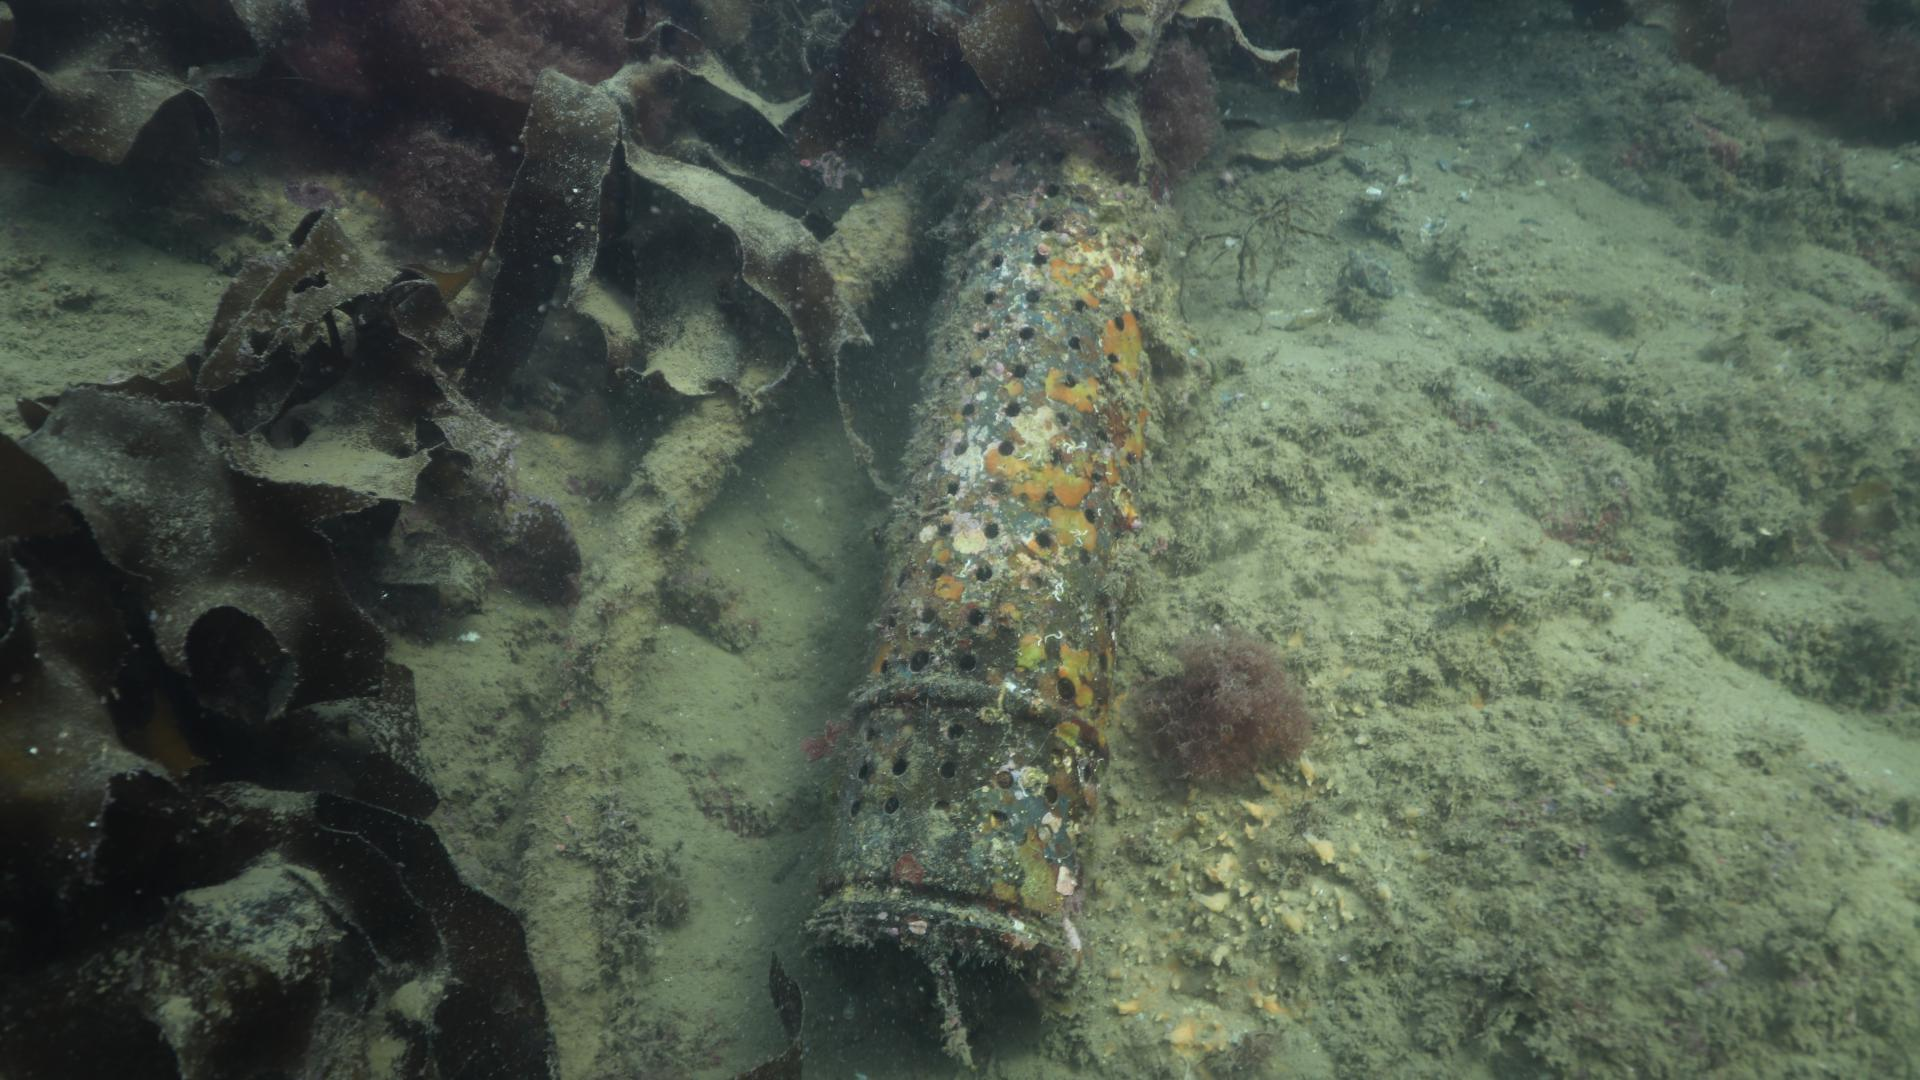eel fish trap: (800, 156, 1179, 1005)
